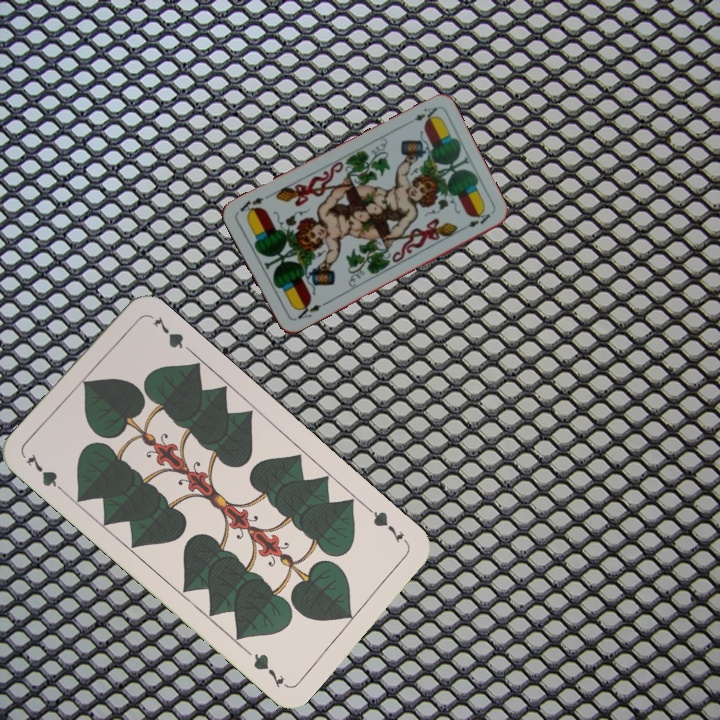EA: (290, 298, 328, 323), (402, 103, 440, 128)
G7: (21, 449, 70, 497), (363, 503, 411, 548)
